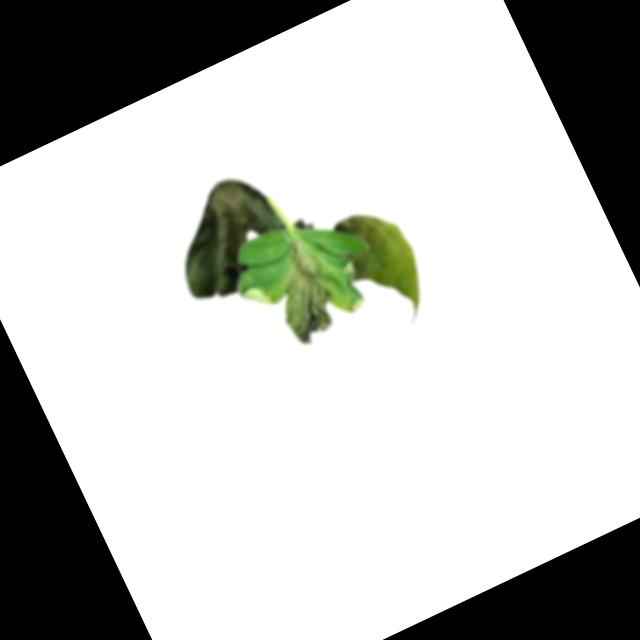Late_blight: (152, 161, 307, 311), (331, 197, 441, 337), (255, 235, 347, 351)
